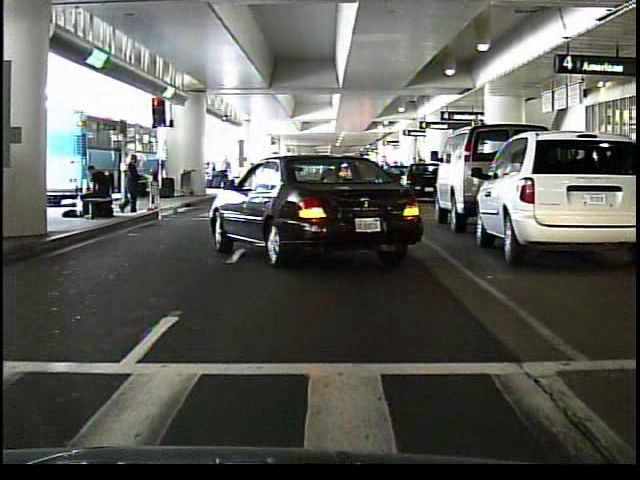person: (77, 162, 113, 224), (118, 149, 142, 212)
